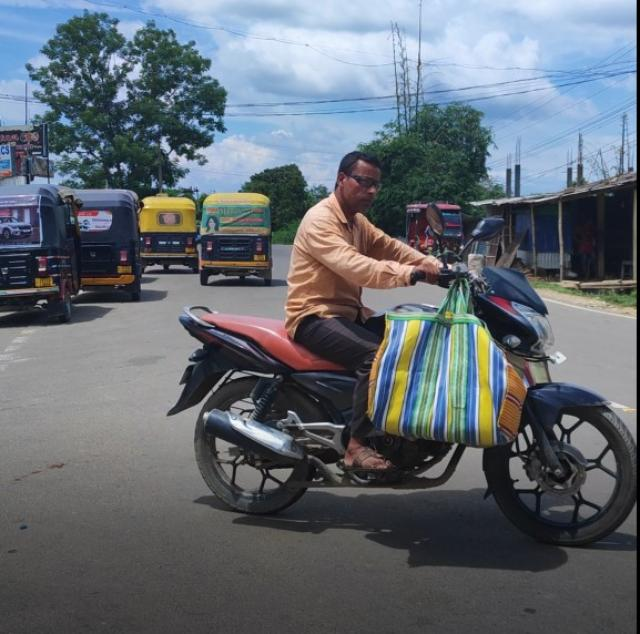motorcycle: (178, 147, 640, 553)
withoutHelmet: (333, 153, 384, 211)
